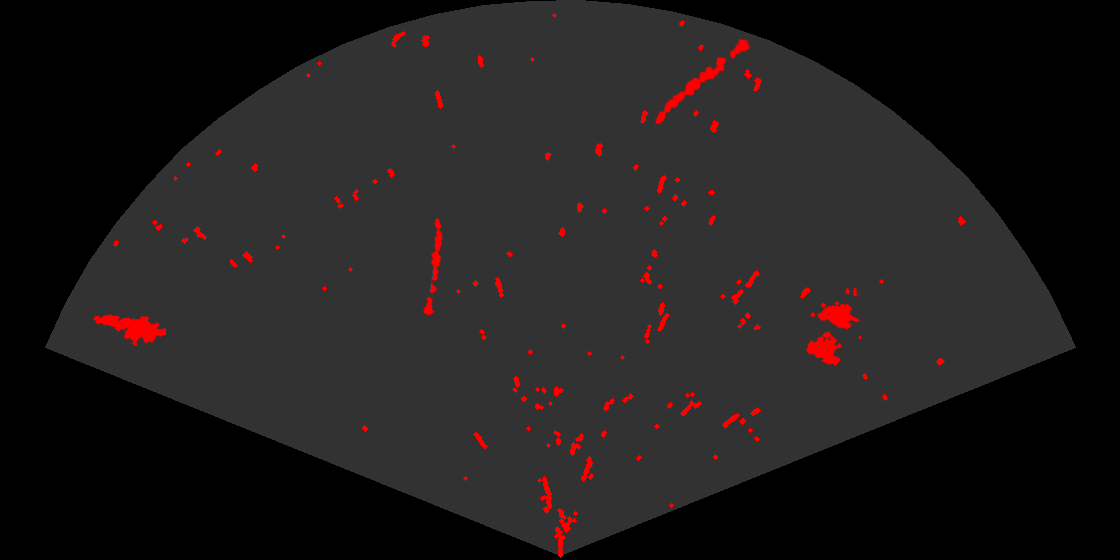cage: (805, 288, 861, 368)
chain: (654, 37, 752, 126), (422, 216, 444, 318)
frogman: (91, 313, 166, 348)
